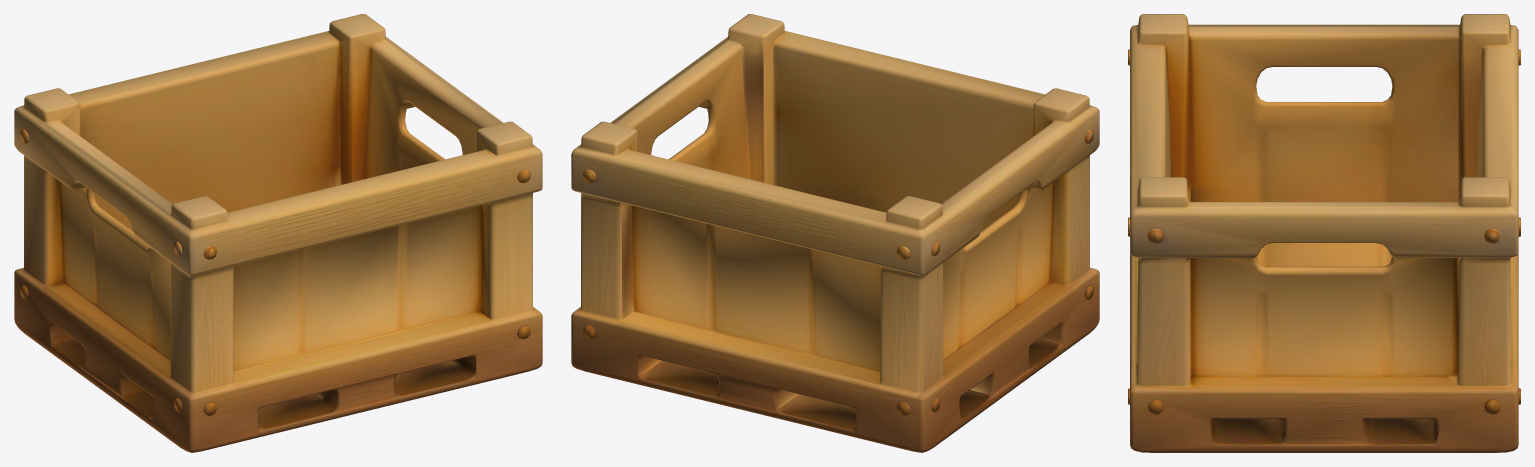
Rendered from warehouse_crate_6e8a0927_v4.glb.
3 renders of one model, left to right at view 1: azimuth 30°, elevation 25°; view 2: azimuth 150°, elevation 25°; view 3: azimuth 270°, elevation 25°, orthographic. The views are drawn at different scales.
Parts seen in each view (by area): view 1: material; view 2: material; view 3: material.
Part boxes in pixels (x1,y1,x2,y2): material: (14, 14, 542, 452); material: (571, 14, 1099, 452); material: (1128, 14, 1520, 452).
Bounding box in the file's own units: 1.9 × 1.19 × 1.66.
Materials: 1 (1 with a texture image).
